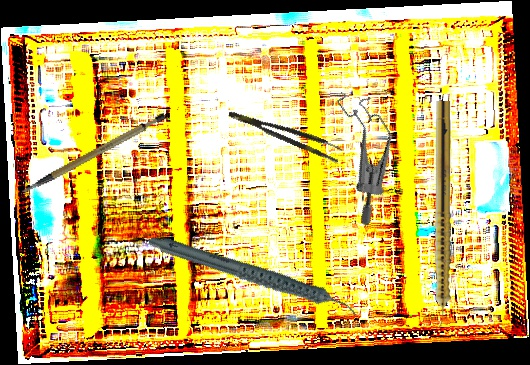Handpiece: (146, 195, 360, 360), (431, 101, 451, 328)
Scalpel Handle: (11, 110, 174, 195)
Speculum: (297, 79, 428, 228)
Tissue Forceps: (227, 101, 344, 164)
